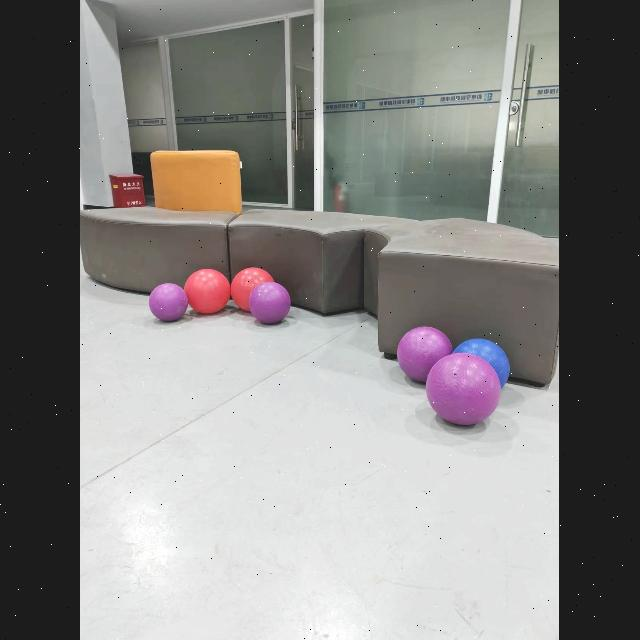B: (454, 338, 511, 388)
P: (427, 352, 502, 425), (398, 327, 453, 382), (249, 282, 291, 323), (149, 283, 189, 322)
R: (185, 269, 231, 314), (231, 268, 275, 311)
